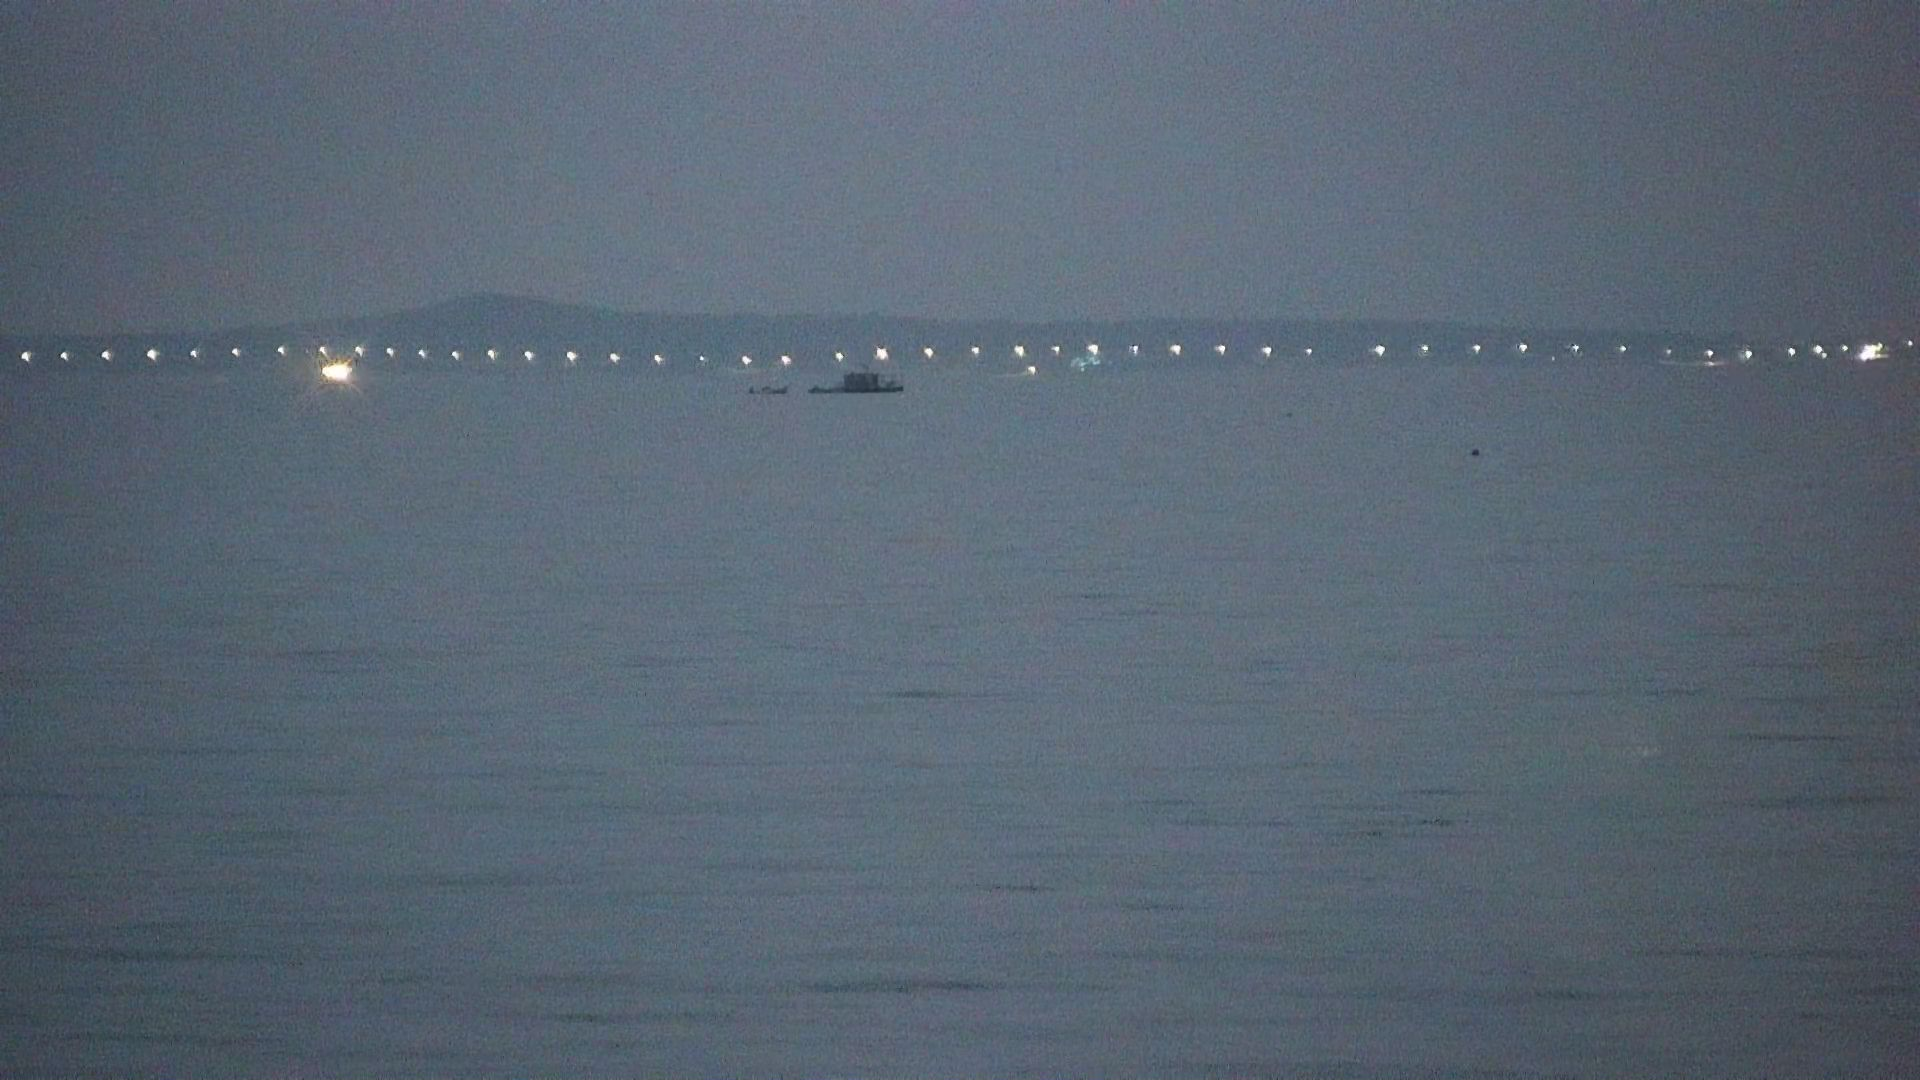platform: (806, 357, 910, 401)
